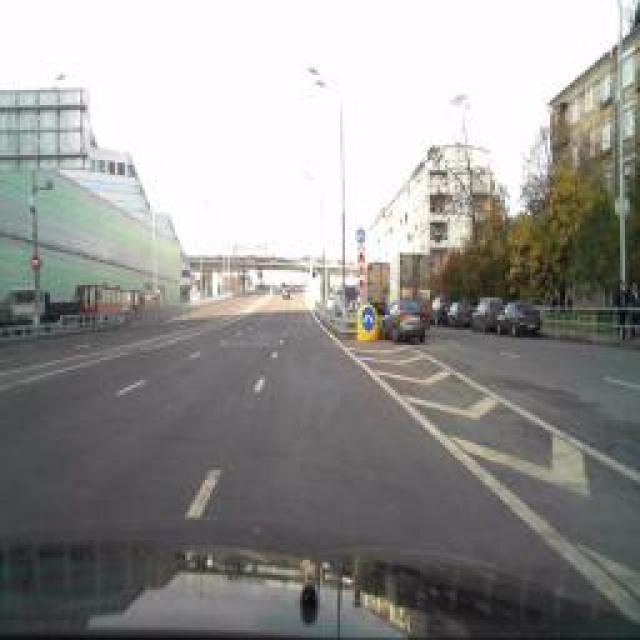sign: (360, 305, 375, 333), (356, 226, 366, 244)
